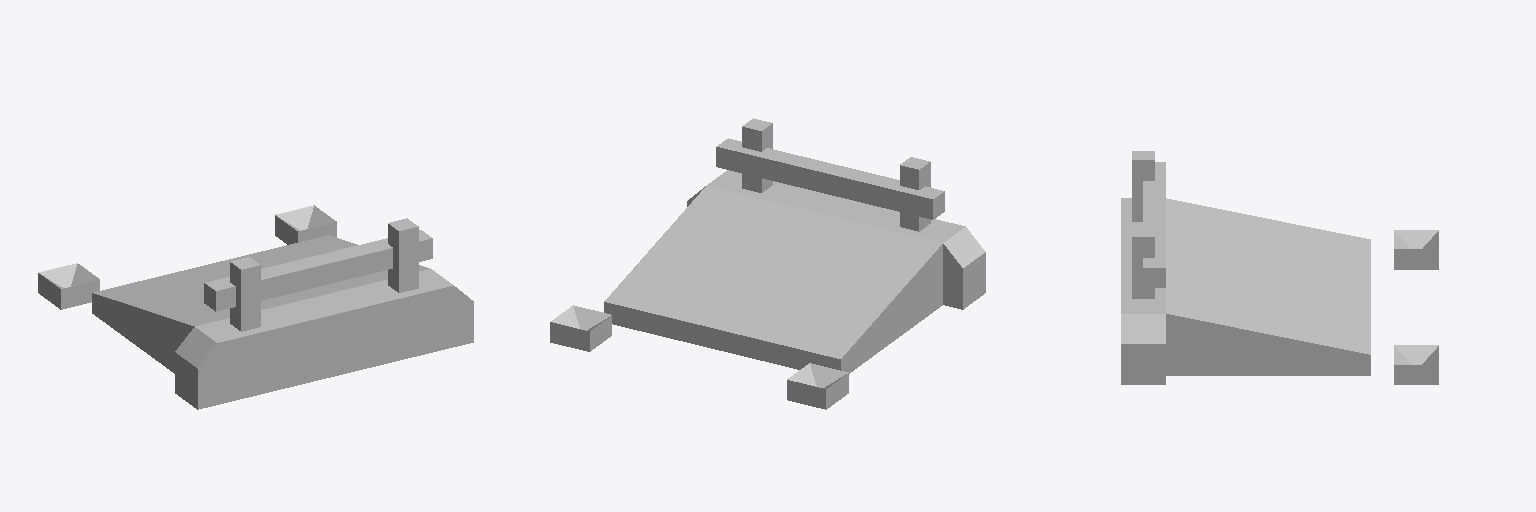
Rendered from scribes_bench_main.obj.
3 renders of one model, left to right at view 1: azimuth 30°, elevation 25°; view 2: azimuth 150°, elevation 25°; view 3: azimuth 270°, elevation 25°, orthographic.
Visible parts, largest first — view 1: SCRIBES_MAIN_Cube.020; view 2: SCRIBES_MAIN_Cube.020; view 3: SCRIBES_MAIN_Cube.020.
Boxes of the visible parts, box(x1,y1,x2,y2) form: SCRIBES_MAIN_Cube.020: box(38, 205, 473, 409); SCRIBES_MAIN_Cube.020: box(550, 118, 985, 409); SCRIBES_MAIN_Cube.020: box(1121, 151, 1438, 384).
Bounding box in the file's own units: 0.875 × 0.375 × 0.875.